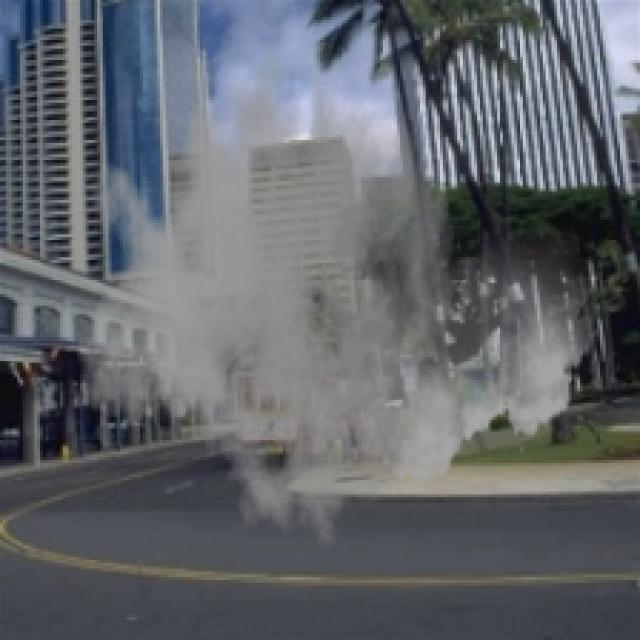smoke: (74, 17, 600, 549)
